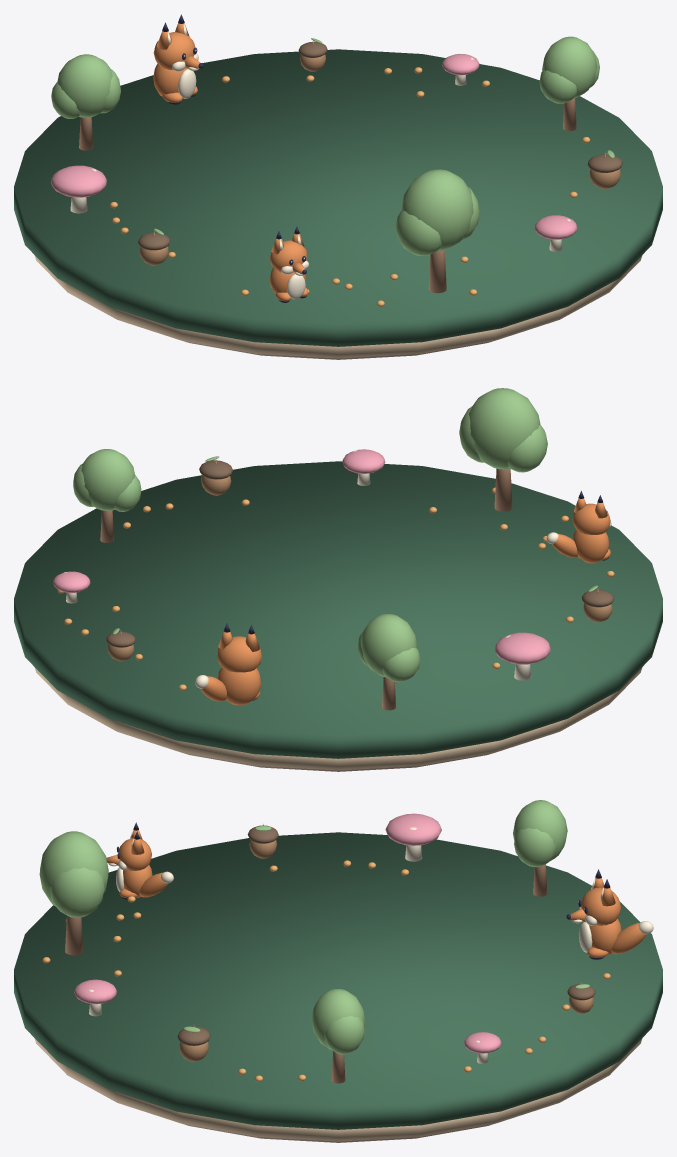
Rendered from world.glb.
The picture shows the model from 3 angles, top to bottom: view 1: azimuth 30°, elevation 25°; view 2: azimuth 150°, elevation 25°; view 3: azimuth 270°, elevation 25°; orthographic projection.
Visible parts, largest first — view 1: Cone, Cone.001, tree.003, tree.002, tree.001, fox.001, fox.002, mushroom.002, acorn.003, mushroom.003, acorn.002, mushroom.001 (+2 smaller); view 2: Cone, Cone.001, tree.003, tree.001, tree.002, fox.001, fox.002, mushroom.002, mushroom.003, acorn.003, acorn.002, mushroom.001 (+1 smaller); view 3: Cone, Cone.001, tree.003, fox.001, tree.002, tree.001, fox.002, mushroom.002, mushroom.003, acorn.003, acorn.002, mushroom.001 (+2 smaller).
Boxes of the visible parts, x1=… form: Cone: x1=14, y1=49, x2=662, y2=346; Cone.001: x1=34, y1=255, x2=642, y2=358; tree.003: x1=395, y1=169, x2=479, y2=293; tree.002: x1=51, y1=54, x2=120, y2=150; tree.001: x1=539, y1=36, x2=599, y2=130; fox.001: x1=153, y1=14, x2=203, y2=104; fox.002: x1=269, y1=226, x2=309, y2=302; mushroom.002: x1=51, y1=165, x2=106, y2=213; acorn.003: x1=587, y1=150, x2=622, y2=188; mushroom.003: x1=534, y1=215, x2=577, y2=251; acorn.002: x1=138, y1=228, x2=170, y2=265; mushroom.001: x1=442, y1=54, x2=479, y2=85; Cone: x1=14, y1=461, x2=662, y2=758; Cone.001: x1=34, y1=667, x2=642, y2=770; tree.003: x1=459, y1=388, x2=547, y2=511; tree.001: x1=73, y1=449, x2=141, y2=542; tree.002: x1=357, y1=614, x2=420, y2=710; fox.001: x1=195, y1=623, x2=261, y2=705; fox.002: x1=546, y1=491, x2=611, y2=563; mushroom.002: x1=494, y1=632, x2=550, y2=680; mushroom.003: x1=342, y1=449, x2=385, y2=485; acorn.003: x1=199, y1=456, x2=232, y2=495; acorn.002: x1=581, y1=585, x2=614, y2=622; mushroom.001: x1=53, y1=571, x2=90, y2=603; Cone: x1=14, y1=832, x2=662, y2=1129; Cone.001: x1=34, y1=1038, x2=642, y2=1141; tree.003: x1=39, y1=831, x2=108, y2=955; fox.001: x1=566, y1=869, x2=653, y2=959; tree.002: x1=513, y1=800, x2=567, y2=896; tree.001: x1=311, y1=989, x2=365, y2=1083; fox.002: x1=106, y1=822, x2=173, y2=899; mushroom.002: x1=385, y1=813, x2=441, y2=861; mushroom.003: x1=74, y1=979, x2=116, y2=1016; acorn.003: x1=177, y1=1024, x2=210, y2=1061; acorn.002: x1=247, y1=824, x2=278, y2=858; mushroom.001: x1=464, y1=1032, x2=501, y2=1063.
Bounding box in the file's own units: 9.6 × 2.71 × 9.6.
